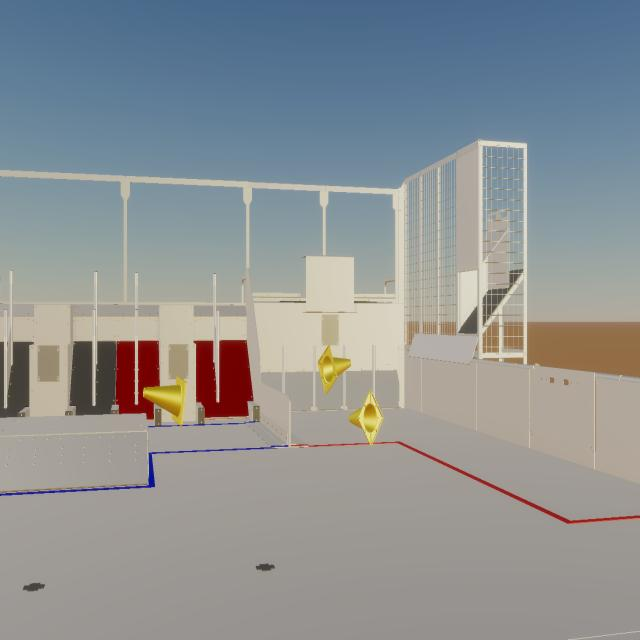frc_cone: (143, 376, 187, 426), (349, 391, 383, 446), (318, 346, 351, 394)
